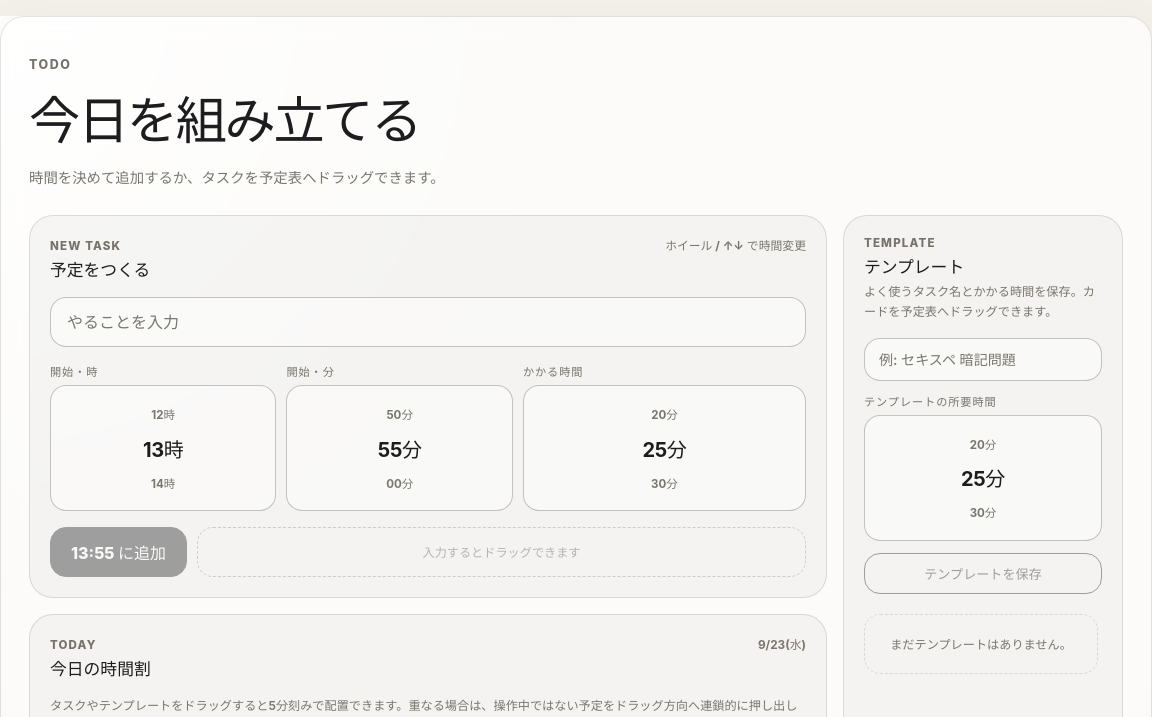
Test: TodoPage › テンプレートを保存し、使うボタンでタスク入力欄へ反映できる
Type "セキスペ復習" into the field named "テンプレート名" at [983, 360], box [864, 338, 1102, 381]
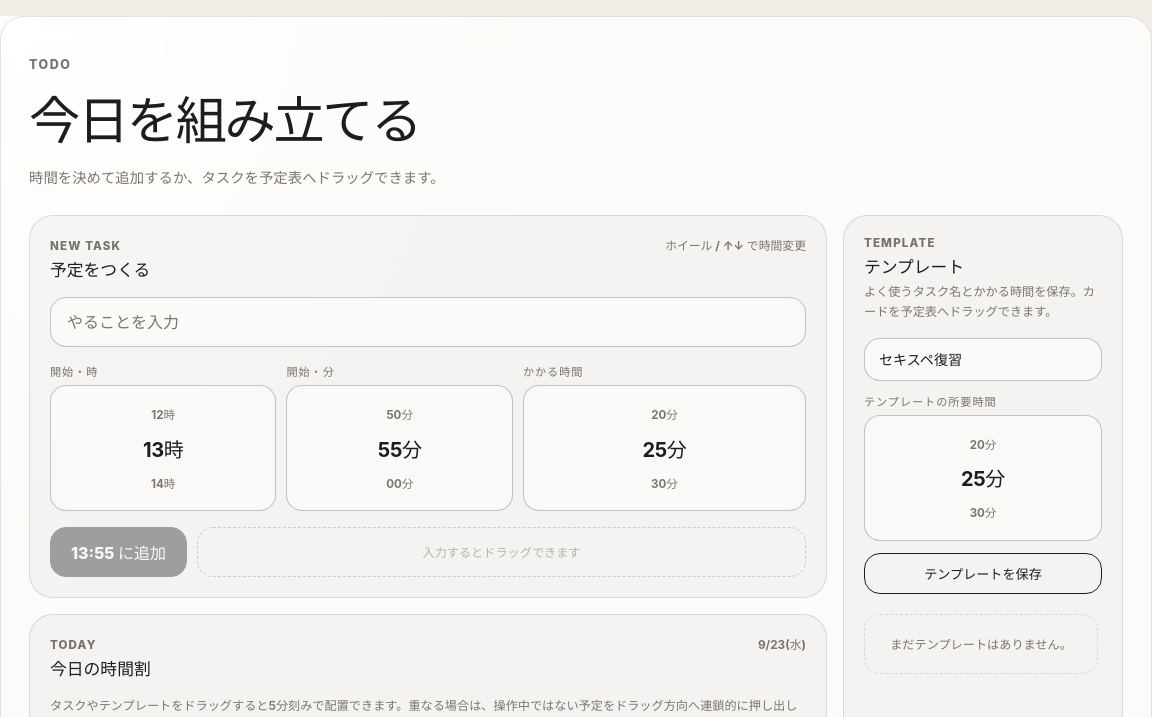
Click the button "テンプレートを保存" at [983, 574], box [864, 553, 1102, 594]
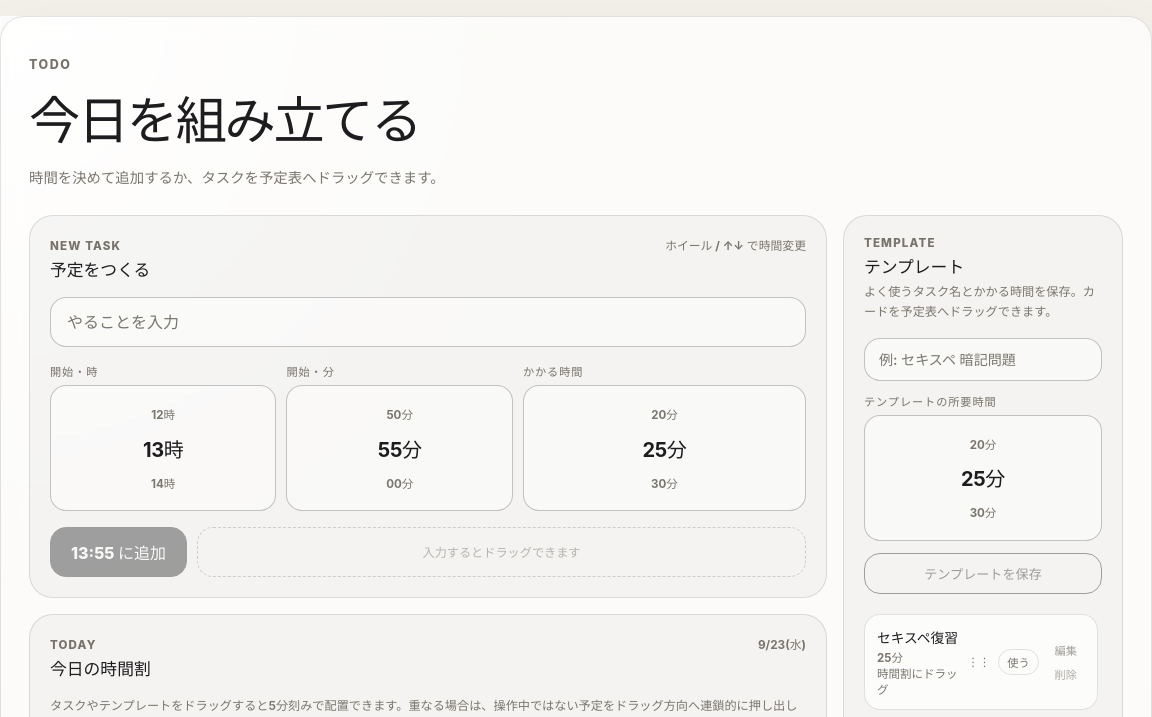
Click the button with aria-label "セキスペ復習を入力欄で使う" at [1018, 662], box [998, 649, 1039, 675]
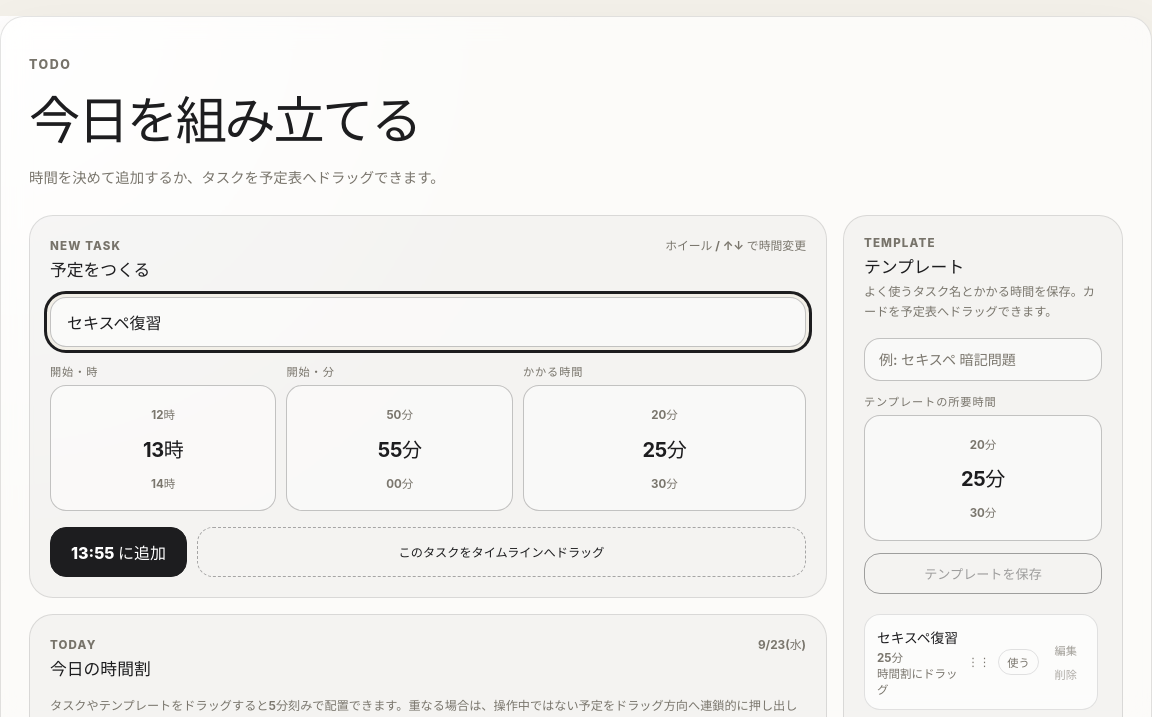
Now the field named "やること" holds "セキスペ復習", box [50, 298, 806, 348]
